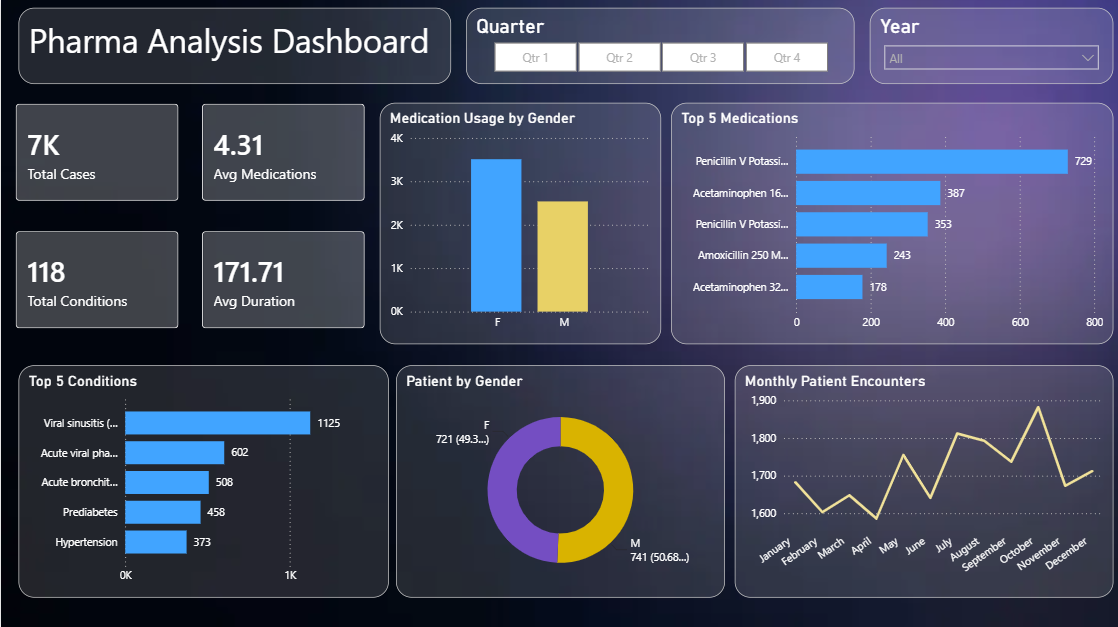

The dashboard page shown, as its layout file describes it:
{"tool":"powerbi","page":{"name":"Page 1","canvas":[1280,720],"ordinal":0},"visuals":[{"type":"cardVisual","fields":{"Data":["Sum(public top_condition.total_cases)"]},"box":[0,102.9,220,145.7],"z":0},{"type":"cardVisual","fields":{"Data":["public conditions.total condition"]},"box":[0,248.6,220,145.7],"z":2},{"type":"cardVisual","fields":{"Data":["public conditions.Avg Medications"]},"box":[212.9,102.9,220,145.7],"z":3},{"type":"cardVisual","fields":{"Data":["public conditions.Avg Duration"]},"box":[212.9,248.6,220,145.7],"z":4},{"type":"barChart","title":"Top 5 Conditions","fields":{"Category":["public top_condition.condition"],"Y":["Sum(public top_condition.total_cases)"]},"box":[20,418.6,422.9,265.7],"z":5},{"type":"barChart","title":"Top 5 Medications","fields":{"Category":["public top_medications.medication"],"Y":["Sum(public top_medications.prescription_count)"]},"box":[765.7,118.6,505.7,275.7],"z":6},{"type":"donutChart","title":"Patient by Gender","fields":{"Category":["public patients.gender"],"Y":["CountNonNull(public patients.patient)"]},"box":[451.4,418.6,375.7,265.7],"z":7},{"type":"columnChart","title":"Medication Usage by Gender","fields":{"Category":["public med_by_gender.gender"],"Y":["Sum(public med_by_gender.med_usage)"]},"box":[432.9,118.6,321.4,275.7],"z":8},{"type":"lineChart","title":"Monthly Patient Encounters","fields":{"Y":["CountNonNull(public encounters.patient)"],"Category":["public encounters.date.Variation.Date Hierarchy.Month"]},"box":[838.6,418.6,432.9,265.7],"z":9},{"type":"slicer","title":"Quarter","fields":{"Values":["public encounters.date.Variation.Date Hierarchy.Quarter"]},"box":[531.4,10,444.3,87.1],"z":10},{"type":"textbox","box":[20,10,494.3,87.1],"z":11},{"type":"slicer","title":"Year","fields":{"Values":["public encounters.date.Variation.Date Hierarchy.Year"]},"box":[992.9,10,278.6,87.1],"z":12}]}

Visuals, with their boxes in screenshot pixels (x1, y1, x2, y2), scaled from the page's 1280x720 canvas onto the 1118x627 screenshot:
cardVisual - Sum(public top_condition.total_cases): pyautogui.locateOnScreen(0, 90, 192, 216)
cardVisual - public conditions.total condition: pyautogui.locateOnScreen(0, 216, 192, 343)
cardVisual - public conditions.Avg Medications: pyautogui.locateOnScreen(186, 90, 378, 216)
cardVisual - public conditions.Avg Duration: pyautogui.locateOnScreen(186, 216, 378, 343)
"Top 5 Conditions" barChart: pyautogui.locateOnScreen(17, 365, 387, 596)
"Top 5 Medications" barChart: pyautogui.locateOnScreen(669, 103, 1110, 343)
"Patient by Gender" donutChart: pyautogui.locateOnScreen(394, 365, 722, 596)
"Medication Usage by Gender" columnChart: pyautogui.locateOnScreen(378, 103, 659, 343)
"Monthly Patient Encounters" lineChart: pyautogui.locateOnScreen(732, 365, 1111, 596)
"Quarter" slicer: pyautogui.locateOnScreen(464, 9, 852, 85)
textbox: pyautogui.locateOnScreen(17, 9, 449, 85)
"Year" slicer: pyautogui.locateOnScreen(867, 9, 1111, 85)
